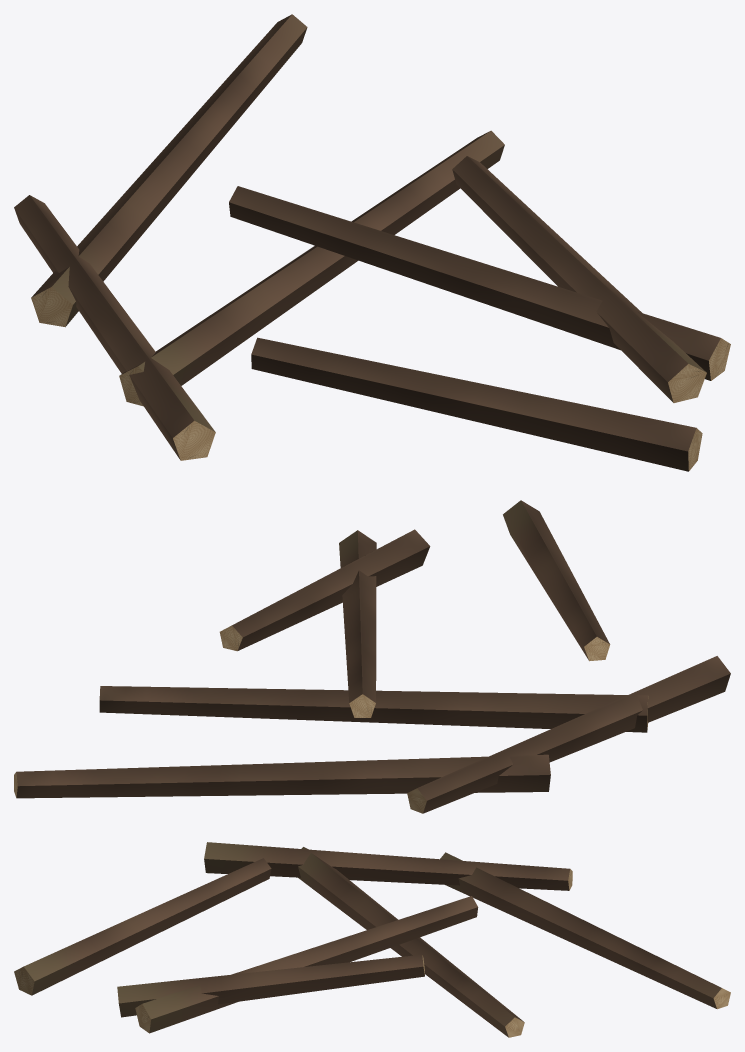
The model's file is SM_Sticks_Loose01.fbx.
3 views of the same model, one above another, from view 1: azimuth 30°, elevation 25°; view 2: azimuth 150°, elevation 25°; view 3: azimuth 270°, elevation 25° (orthographic). The views are drawn at different scales.
Parts seen in each view (by area): view 1: SM_Sticks_Loose01; view 2: SM_Sticks_Loose01; view 3: SM_Sticks_Loose01.
Part boxes in pixels (<box>): SM_Sticks_Loose01: <box>14,14,730,471</box>; SM_Sticks_Loose01: <box>14,500,730,813</box>; SM_Sticks_Loose01: <box>14,842,730,1037</box>.
Size of the model in its own units: 1.85 by 0.2762 by 3.06.
Materials: 1 (1 with a texture image).
